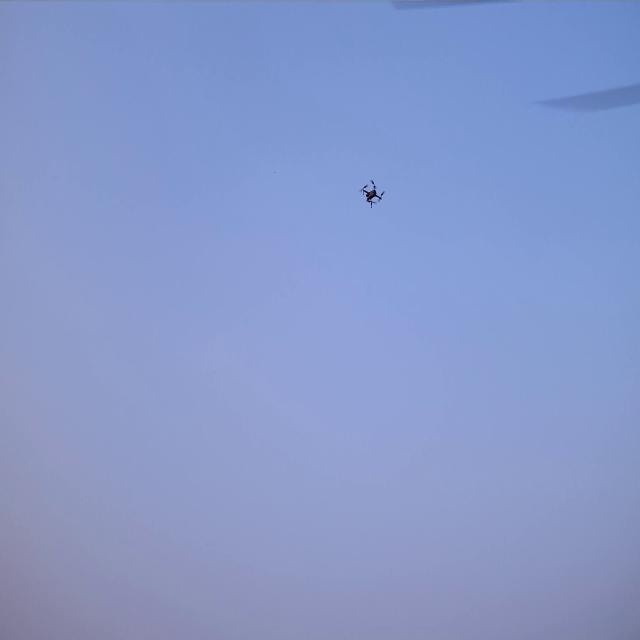UAV: (362, 182, 383, 208)
